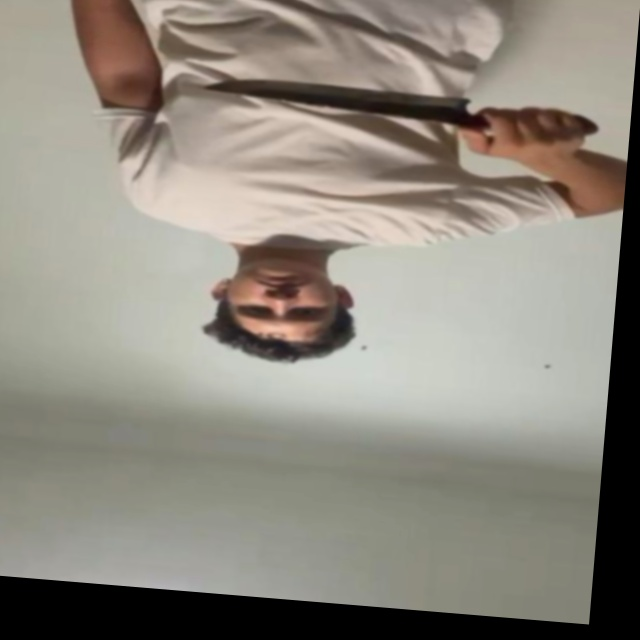Sharp-Object: (194, 71, 473, 125)
